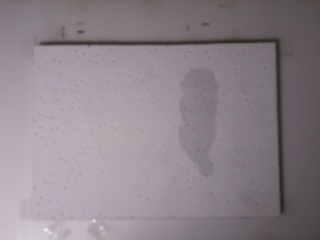Water_detected: (179, 79, 219, 162)
